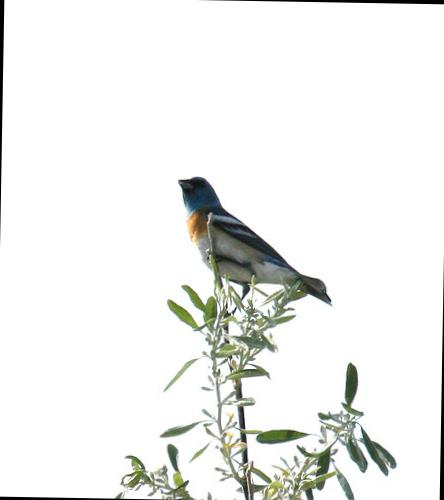bird: (148, 154, 354, 325)
